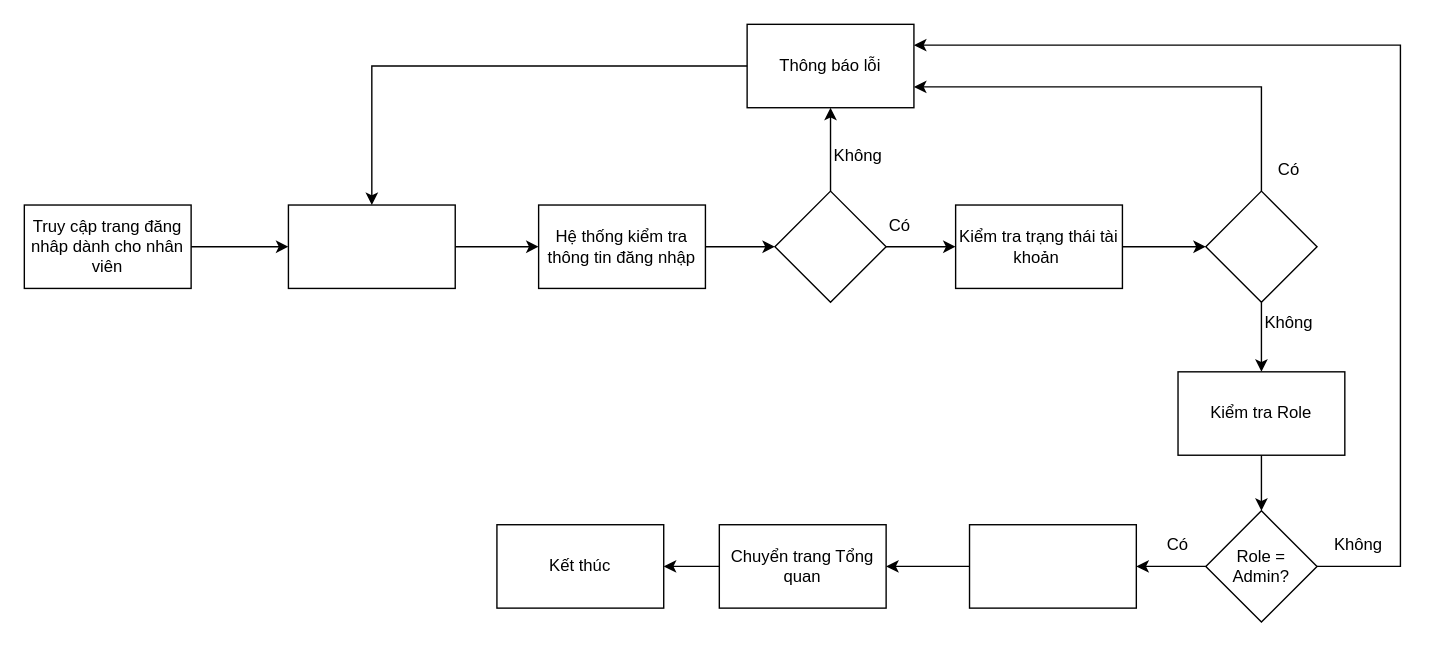
The diagram is 1436 pixels wide and 646 high, and some of its shapes have lost their labels. Here are the shapes that lost their labels. From the top down, the centre of each, then its label:
At (371,246): "Nhập Email và mật khẩu".
At (830,246): "Hợp lệ?".
At (1260,246): "Bị Khóa ?".
At (1052,565): "Lưu thông tin đăng nhập".
